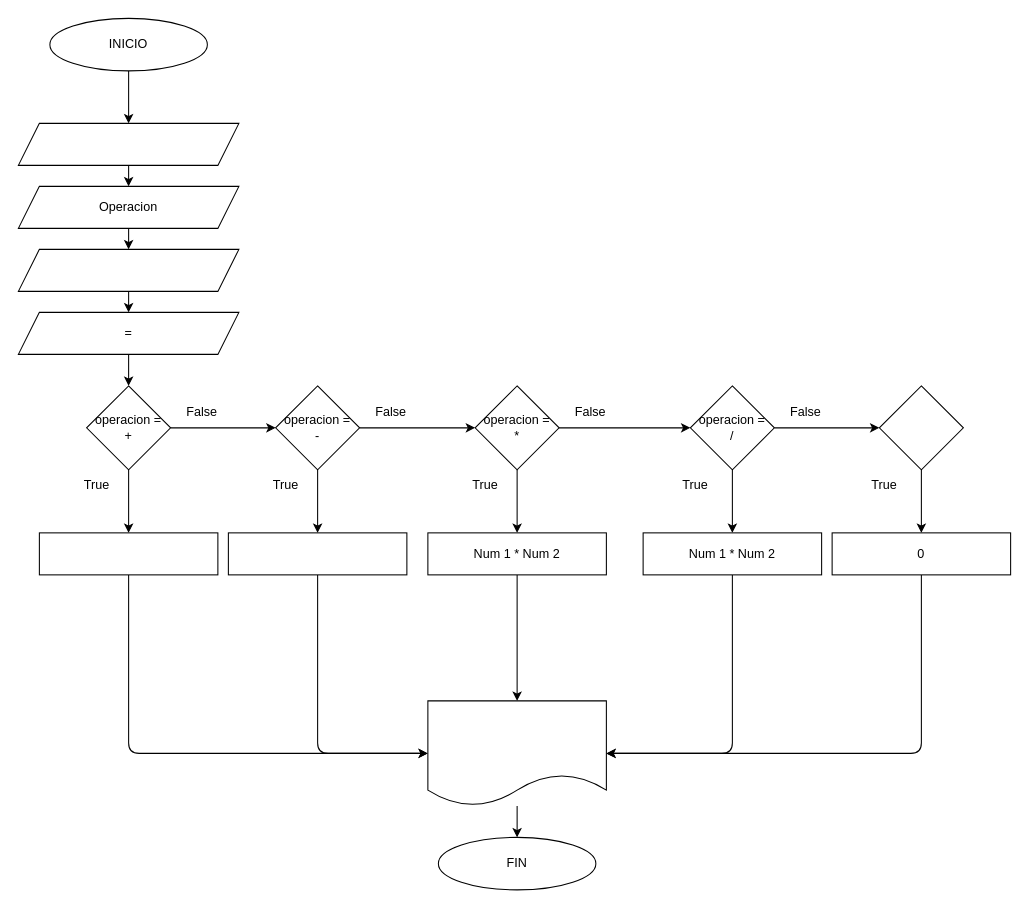
Some shapes in this 1029 by 908 pixel diagram are drawn without their labels. The shapes that lost their labels are listed below. From the top down, each one's centre as x and y in pixels, then its label:
pixel 128 143: Num 1
pixel 128 269: Num 2
pixel 920 427: operacion = C
pixel 128 553: Num 1 + Num 2
pixel 317 553: Num 1 - Num 2
pixel 516 753: Resultado
